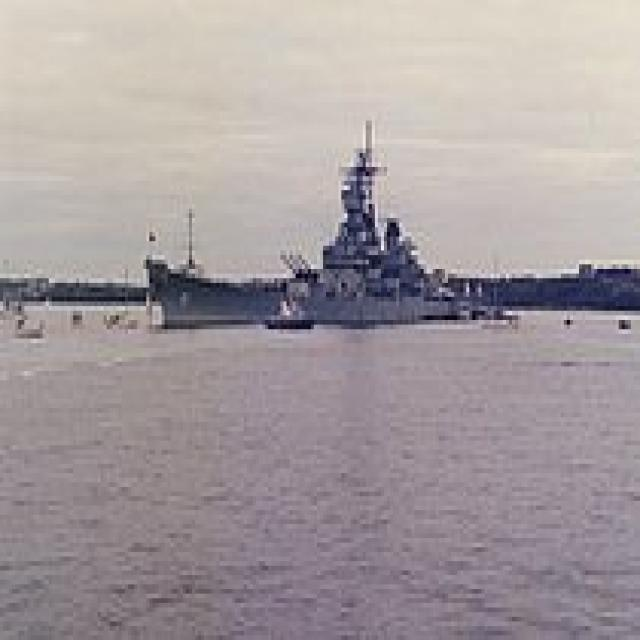Warship: (134, 116, 503, 325)
